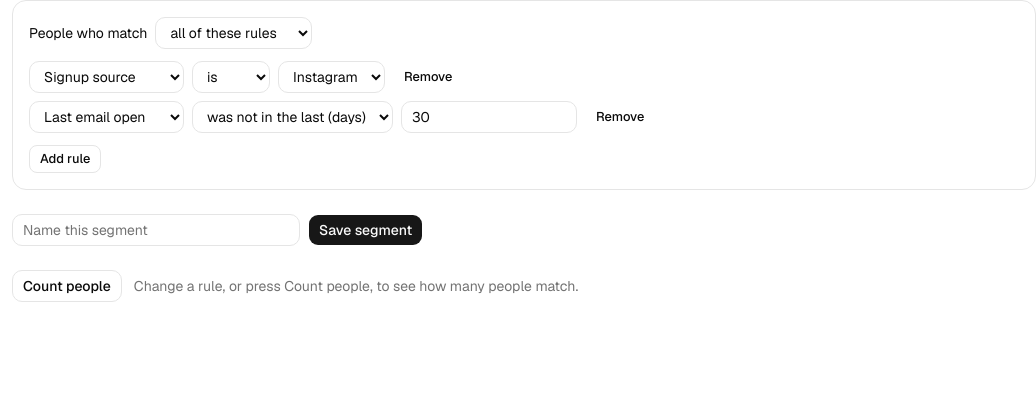
SegmentBuilder › shows the count only, and points to saving for the list of people
Click the button "Count people" at coordinates (67, 286), box [12,270,122,302]
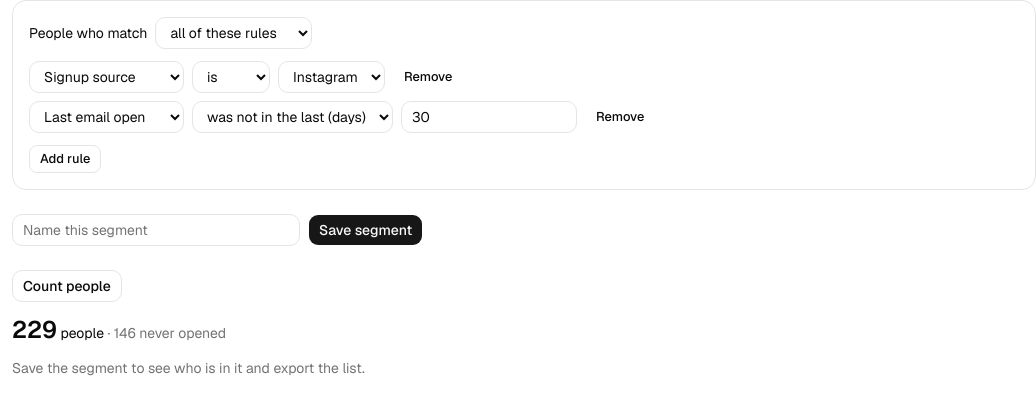
Expected: the text "Save the segment to see who is in it and export the list." is shown, [12,359,365,377]
